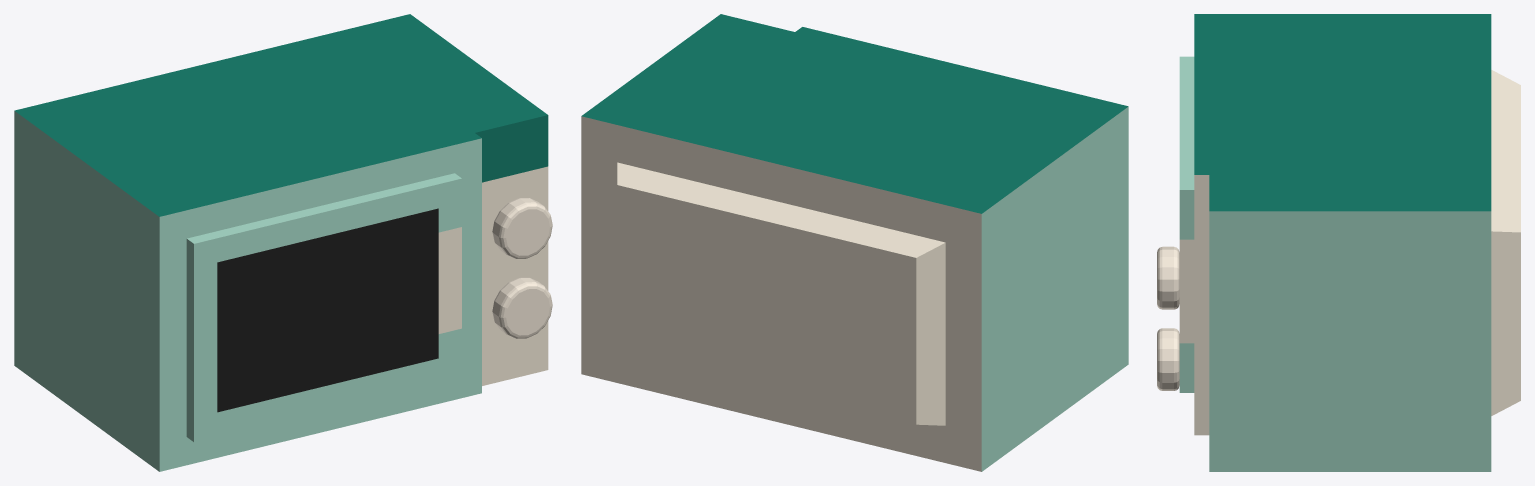
The model's file is microwave_c.glb.
The picture shows the model from 3 angles, left to right: view 1: azimuth 30°, elevation 25°; view 2: azimuth 150°, elevation 25°; view 3: azimuth 270°, elevation 25°; orthographic projection. The views are drawn at different scales.
Visible parts, largest first — view 1: body; view 2: body; view 3: body.
Boxes of the visible parts, <box> form: body: <box>14,14,552,471</box>; body: <box>581,14,1128,471</box>; body: <box>1157,14,1520,471</box>.
Size of the model in its own units: 0.52 by 0.32 by 0.405.
